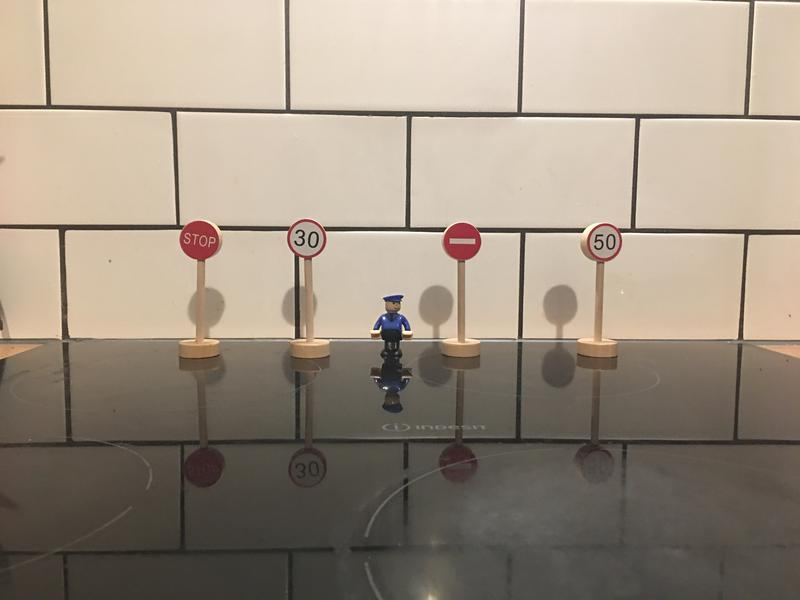Traffic_Sign_30: (287, 221, 327, 258)
Traffic_Sign_50: (586, 223, 622, 261)
Traffic_Sign_No_Entry: (443, 222, 482, 261)
Traffic_Sign_Stop: (180, 222, 220, 261)
person: (369, 293, 414, 363)
